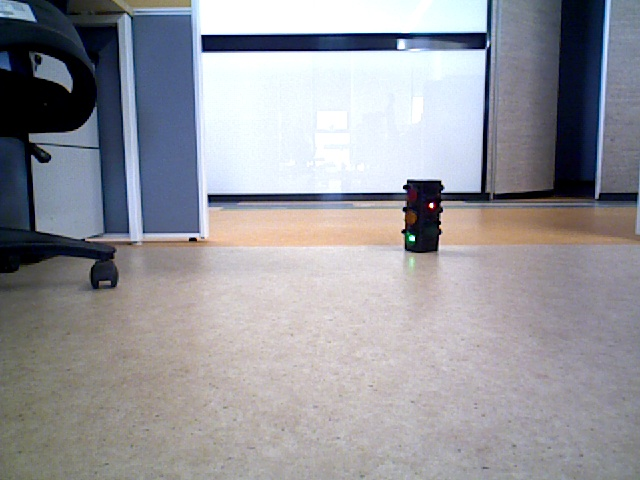green: (404, 182, 438, 249)
